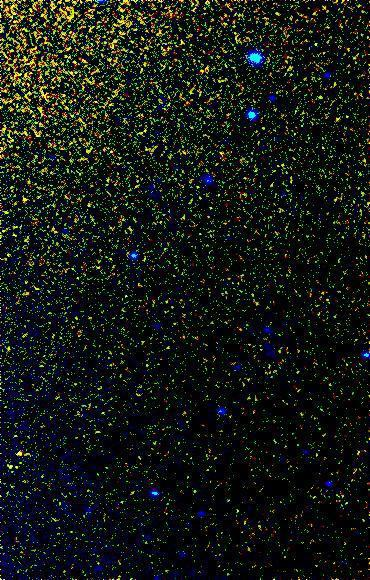star: (4, 434, 34, 464)
